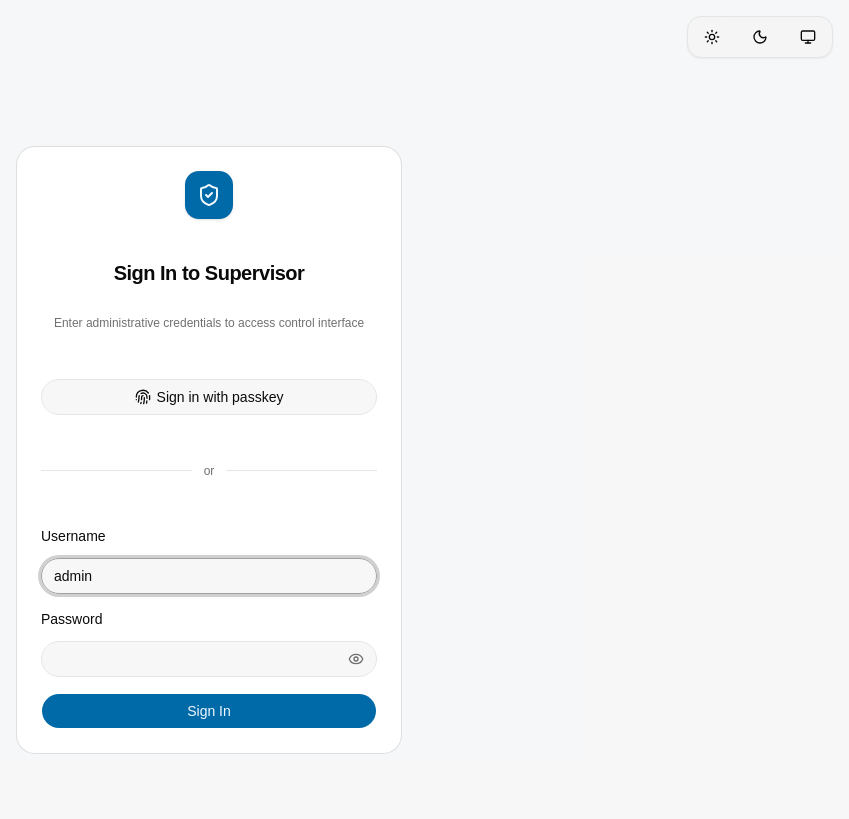
Test: LoginPage › translates an unknown-credential passkey failure into guidance
What coordinates should you click on to do the following:
click the button with test id "passkey-login-button"
I would click on:
 (209, 397)
Its box is 41,379 -> 377,415.
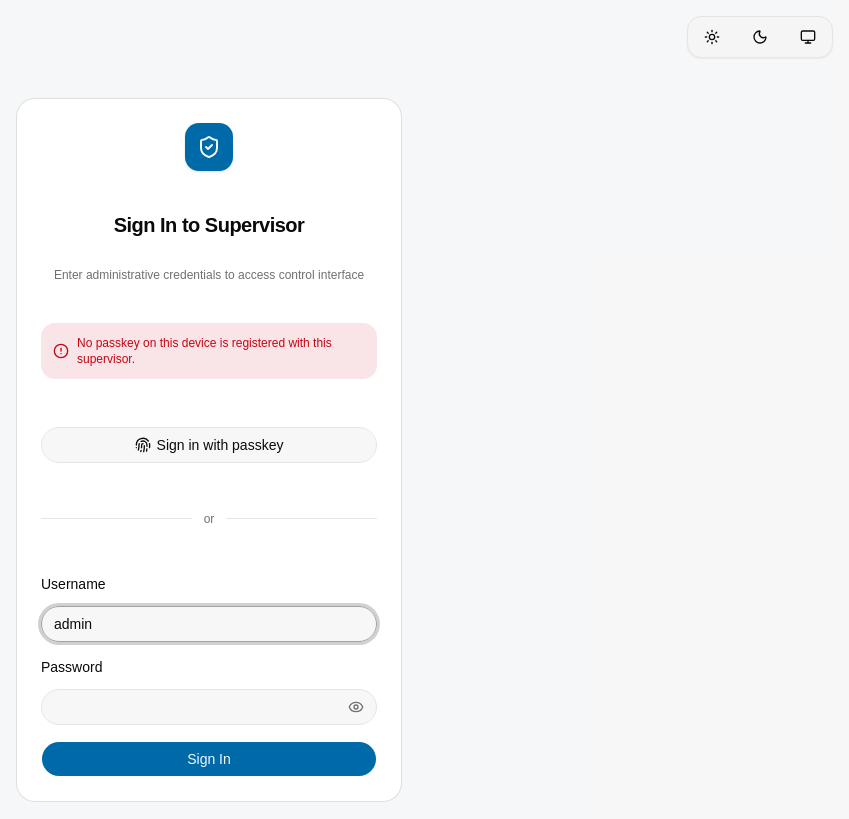
Result: the text "No passkey on this device is registered" is shown at 77,336 -> 332,366
